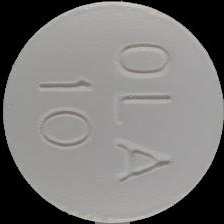50268-612: (0, 0, 224, 224)
